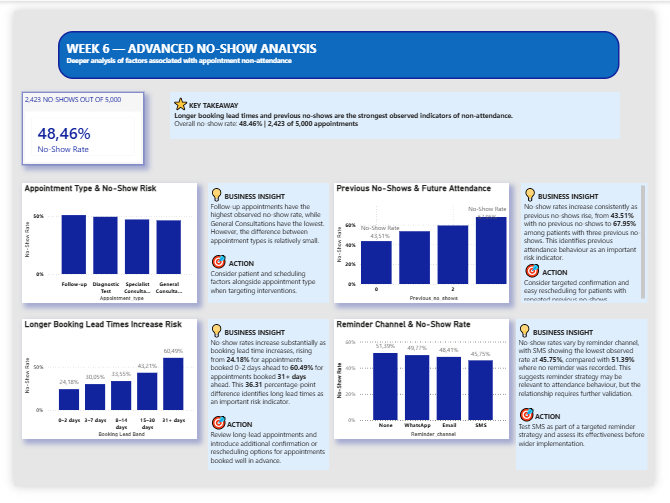

What the dashboard file says about the page in this screenshot:
{"tool":"powerbi","page":{"name":"Week 6 Analysis","canvas":[1280,950],"ordinal":2},"visuals":[{"type":"clusteredColumnChart","title":"Longer Booking Lead Times Increase Risk","fields":{"Category":["HealthConnect_Appointment_Data.Booking Lead Band"],"Y":["HealthConnect_Appointment_Data.No-Show Rate"]},"box":[16.7,616.7,350,240],"z":0},{"type":"clusteredColumnChart","title":"Appointment Type & No-Show Risk","fields":{"Category":["HealthConnect_Appointment_Data.Appointment_type"],"Y":["HealthConnect_Appointment_Data.No-Show Rate"]},"box":[16,344,350,240],"z":1000},{"type":"clusteredColumnChart","title":"Reminder Channel & No-Show Rate","fields":{"Category":["HealthConnect_Appointment_Data.Reminder_channel"],"Y":["HealthConnect_Appointment_Data.No-Show Rate"]},"box":[640,616.7,350,240],"z":2000},{"type":"clusteredColumnChart","title":"Previous No-Shows & Future Attendance","fields":{"Category":["HealthConnect_Appointment_Data.Previous_no_shows"],"Y":["HealthConnect_Appointment_Data.No-Show Rate"]},"box":[640,344,350,240],"z":3000},{"type":"textbox","box":[88.6,40,1122.9,95.7],"z":4000},{"type":"cardVisual","fields":{"Data":["HealthConnect_Appointment_Data.No-Show Rate"]},"box":[16,162,244,146],"z":5000},{"type":"textbox","box":[388.3,343.3,241.7,240],"z":6000},{"type":"textbox","box":[1013.3,343.3,253.3,240],"z":7000},{"type":"textbox","box":[388.3,616.7,241.7,301.7],"z":8000},{"type":"textbox","box":[1003.3,616.7,263.3,301.7],"z":9000},{"type":"textbox","box":[312,162,900,94],"z":10000}]}

Visuals, with their boxes in screenshot pixels (x1, y1, x2, y2), scaled from the page's 1280x950 canvas onto the 670x503 screenshot:
"Longer Booking Lead Times Increase Risk" clusteredColumnChart: bbox=(9, 327, 192, 454)
"Appointment Type & No-Show Risk" clusteredColumnChart: bbox=(8, 182, 192, 309)
"Reminder Channel & No-Show Rate" clusteredColumnChart: bbox=(335, 327, 518, 454)
"Previous No-Shows & Future Attendance" clusteredColumnChart: bbox=(335, 182, 518, 309)
textbox: bbox=(46, 21, 634, 72)
cardVisual - HealthConnect_Appointment_Data.No-Show Rate: bbox=(8, 86, 136, 163)
textbox: bbox=(203, 182, 330, 309)
textbox: bbox=(530, 182, 663, 309)
textbox: bbox=(203, 327, 330, 486)
textbox: bbox=(525, 327, 663, 486)
textbox: bbox=(163, 86, 634, 136)
